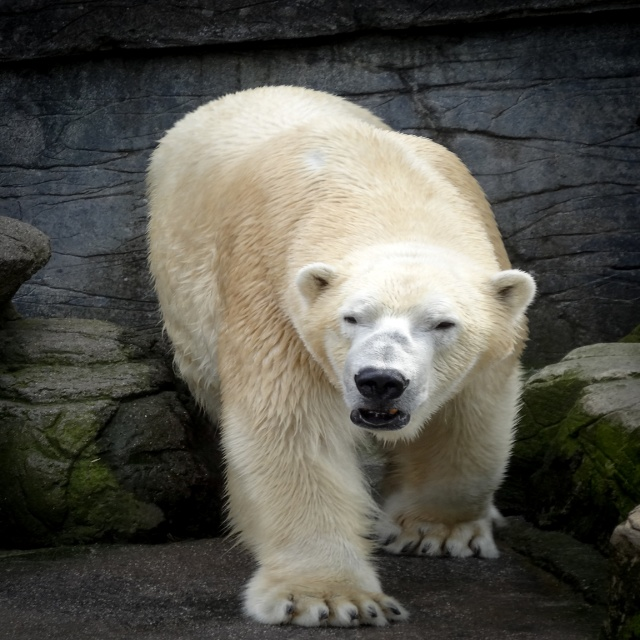Polar bear: (141, 84, 540, 627)
